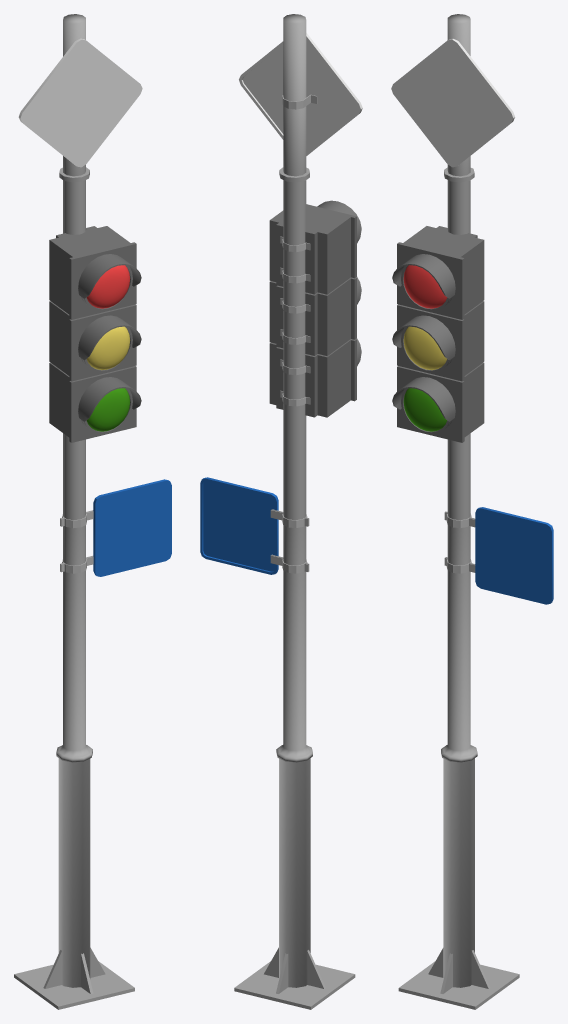
The model's file is TrafficLights.glb.
The picture shows the model from 3 angles, left to right: view 1: azimuth 30°, elevation 25°; view 2: azimuth 150°, elevation 25°; view 3: azimuth 330°, elevation 25°; orthographic projection.
Parts seen in each view (by area): view 1: SM_TrafficLight; view 2: SM_TrafficLight; view 3: SM_TrafficLight.
Part boxes in pixels (left/top/right/bottom): SM_TrafficLight: left=14, top=14, right=171, bottom=1009; SM_TrafficLight: left=200, top=14, right=362, bottom=1009; SM_TrafficLight: left=391, top=14, right=553, bottom=1009.
Bounding box in the file's own units: 0.6341 × 3.75 × 0.4597.
